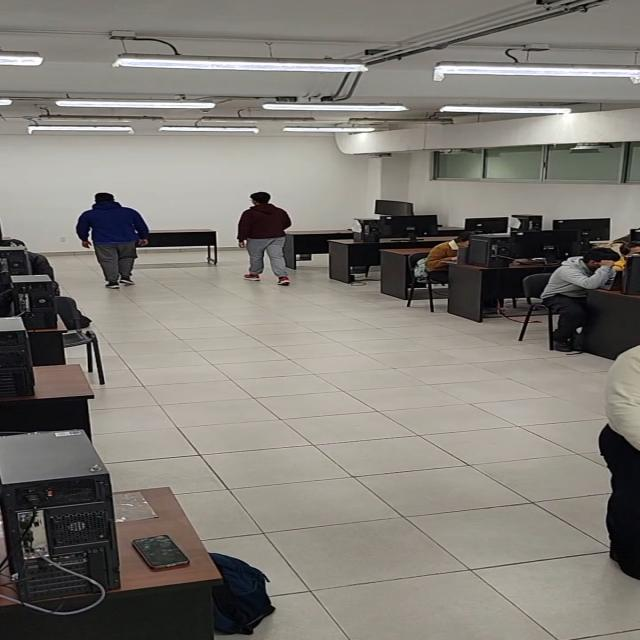Persona: (76, 192, 150, 290), (236, 191, 292, 286)
